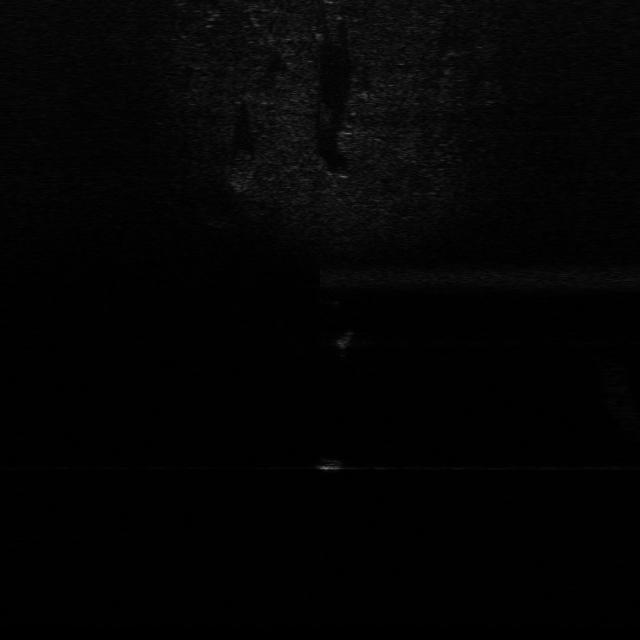cube: (314, 457, 347, 474)
square cage: (327, 326, 357, 352)
